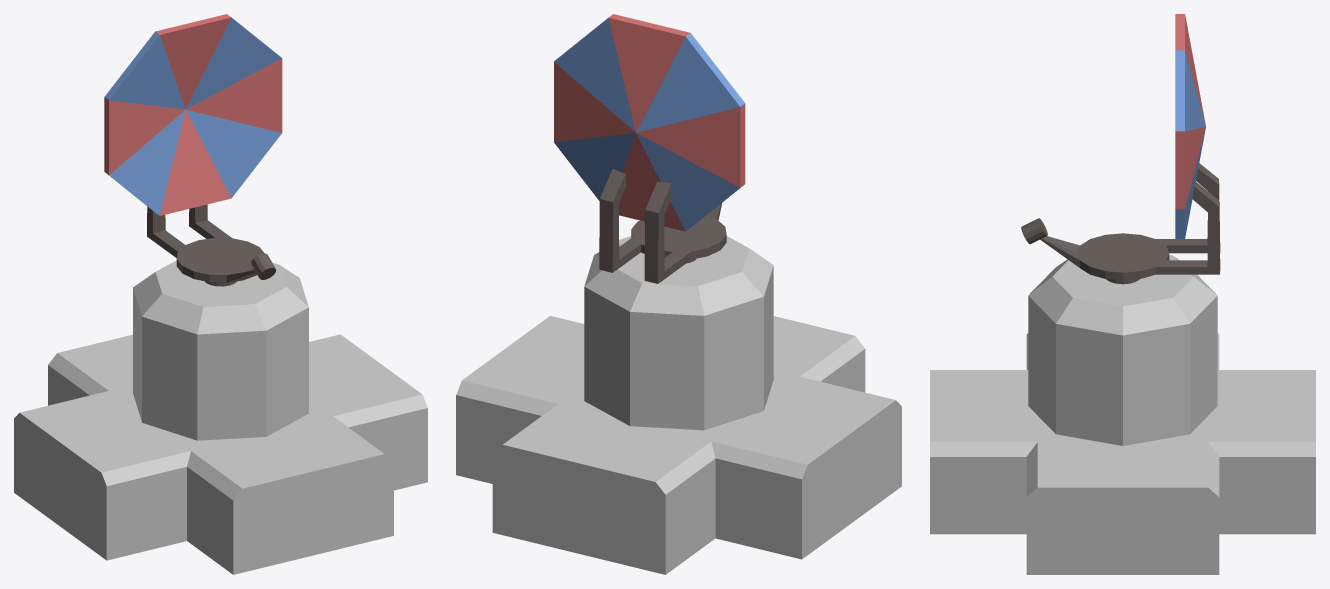
File: LaserTower.fbx
The picture shows the model from 3 angles, left to right: view 1: azimuth 30°, elevation 25°; view 2: azimuth 150°, elevation 25°; view 3: azimuth 270°, elevation 25°; orthographic projection. The views are drawn at different scales.
Parts seen in each view (by area): view 1: TowerBase, LaserDish, LaserTowerBase; view 2: TowerBase, LaserDish, LaserTowerBase; view 3: TowerBase, LaserTowerBase, LaserDish.
Boxes of the visible parts, x1=… form: TowerBase: x1=14, y1=334, x2=427, y2=574; LaserDish: x1=104, y1=14, x2=282, y2=286; LaserTowerBase: x1=133, y1=260, x2=308, y2=440; TowerBase: x1=456, y1=316, x2=901, y2=574; LaserDish: x1=554, y1=14, x2=745, y2=283; LaserTowerBase: x1=584, y1=236, x2=773, y2=430; TowerBase: x1=930, y1=333, x2=1315, y2=574; LaserTowerBase: x1=1028, y1=255, x2=1217, y2=445; LaserDish: x1=1021, y1=14, x2=1220, y2=284.
Size of the model in its own units: 200 by 264 by 200.
